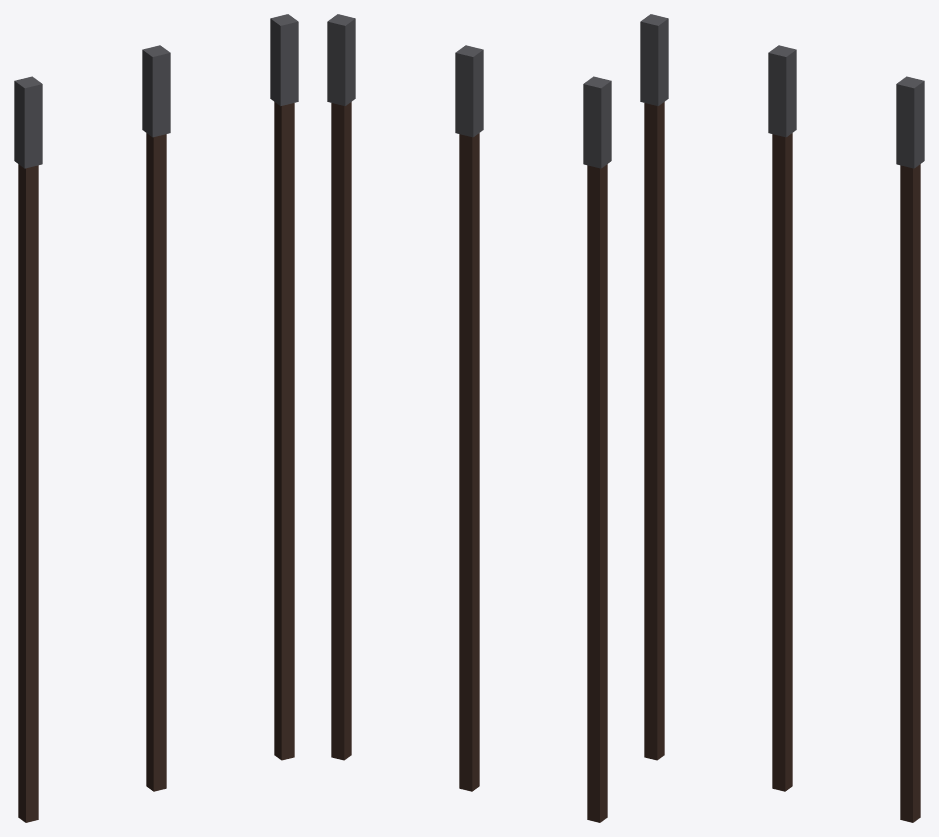
The model's file is lancas_parede.glb.
The picture shows the model from 3 angles, left to right: view 1: azimuth 30°, elevation 25°; view 2: azimuth 150°, elevation 25°; view 3: azimuth 330°, elevation 25°; orthographic projection.
Visible parts, largest first — view 1: Malha_0; view 2: Malha_0; view 3: Malha_0.
Part boxes in pixels (box(x1,y1,x2,y2)): Malha_0: box(14, 14, 298, 822); Malha_0: box(327, 14, 611, 822); Malha_0: box(640, 14, 924, 822).
Bounding box in the file's own units: 1.07 × 2.75 × 0.07.
